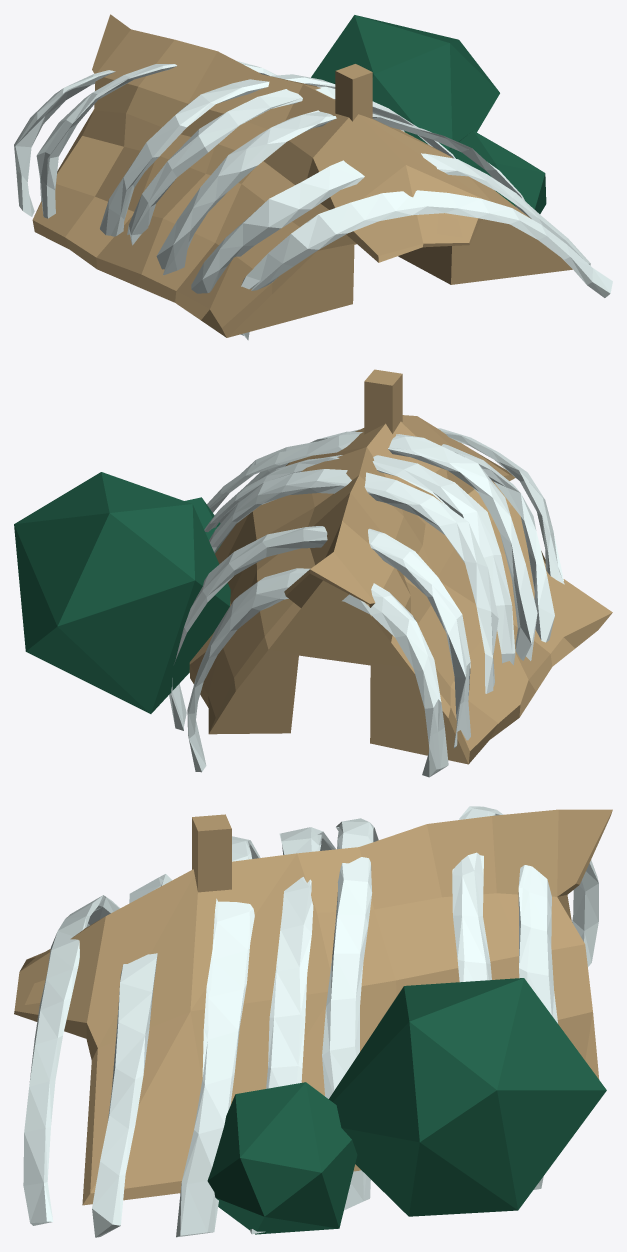
File: primary_house_1.fbx
The picture shows the model from 3 angles, top to bottom: view 1: azimuth 30°, elevation 25°; view 2: azimuth 150°, elevation 25°; view 3: azimuth 270°, elevation 25°; orthographic projection. The views are drawn at different scales.
Parts seen in each view (by area): view 1: house_1.001, house_1, house_1.002; view 2: house_1.001, house_1, house_1.002; view 3: house_1.001, house_1.002, house_1.
Boxes of the visible parts, <box> form: house_1.001: <box>32,14,572,337</box>; house_1: <box>14,60,612,340</box>; house_1.002: <box>311,15,546,213</box>; house_1.001: <box>189,369,612,764</box>; house_1: <box>169,428,564,777</box>; house_1.002: <box>14,472,230,713</box>; house_1.001: <box>14,809,612,1205</box>; house_1.002: <box>207,978,606,1234</box>; house_1: <box>23,806,598,1237</box>.
Size of the model in its own units: 368 by 217 by 345.
